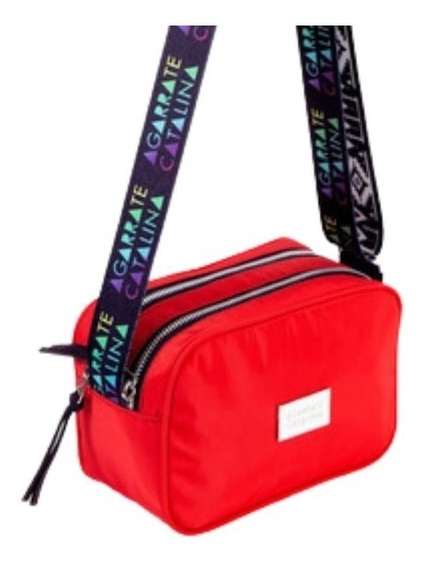cartera: (70, 23, 401, 539)
